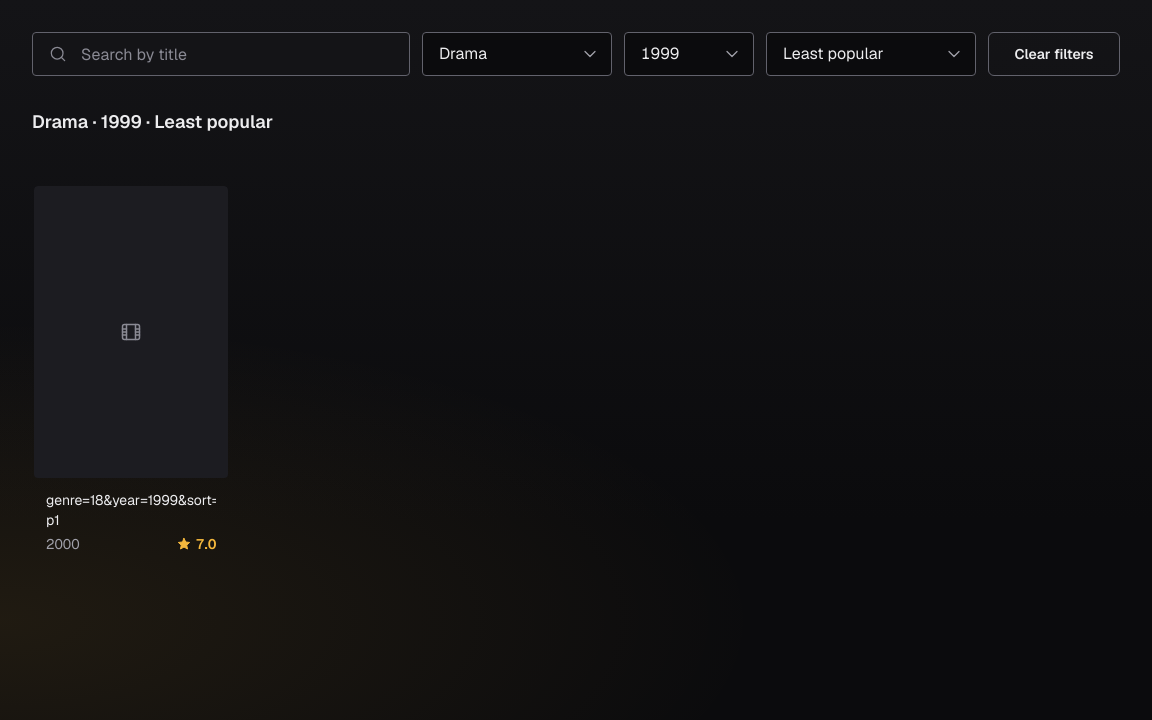
Test: ExplorerClient — filters › typing a search while filters are active clears all of them (RF-7)
The image size is (1152, 720).
Expected: the heading "genre=18&year=1999&sort=popularity.asc p1" is shown, x1=46 y1=490 x2=216 y2=530
Type "matrix" into the field named "Search movies".
click(221, 54); type("matrix")  # box x1=32 y1=32 x2=410 y2=76
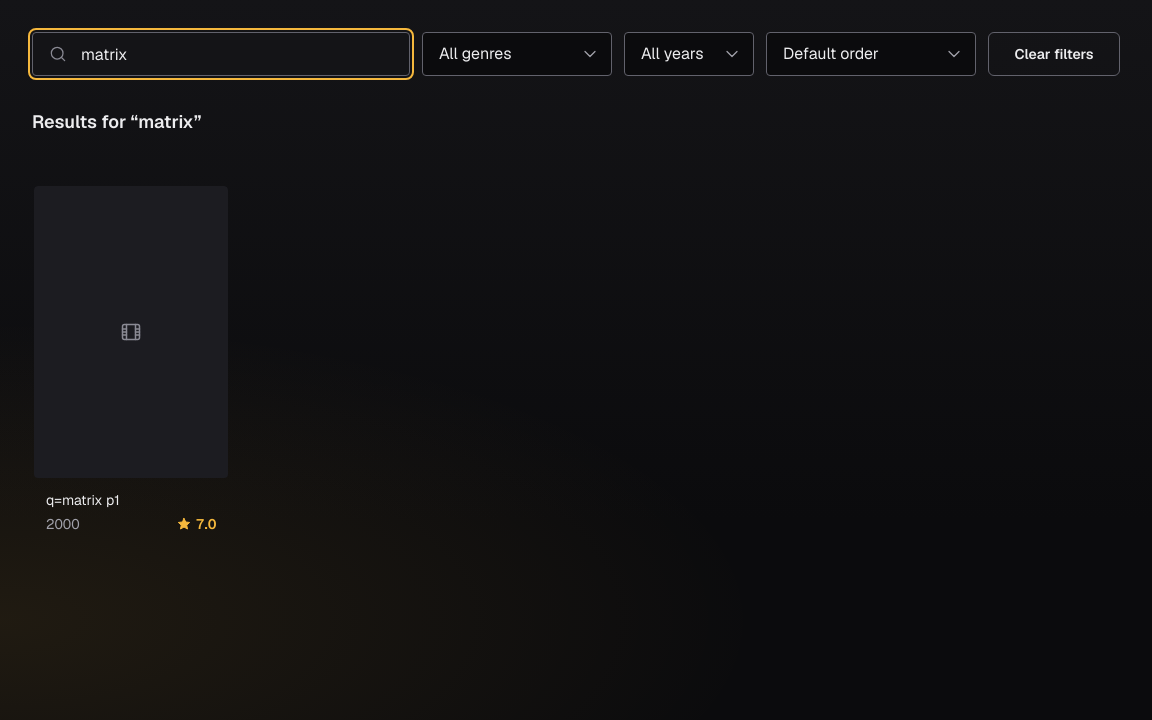
Expected: the 1st dropdown named "Genre" shows "All genres", x1=422 y1=32 x2=612 y2=76
Expected: the 2nd dropdown named "Year" shows "All years", x1=624 y1=32 x2=754 y2=76
Expected: the 3rd dropdown named "Sort by" shows "Default order", x1=766 y1=32 x2=976 y2=76
